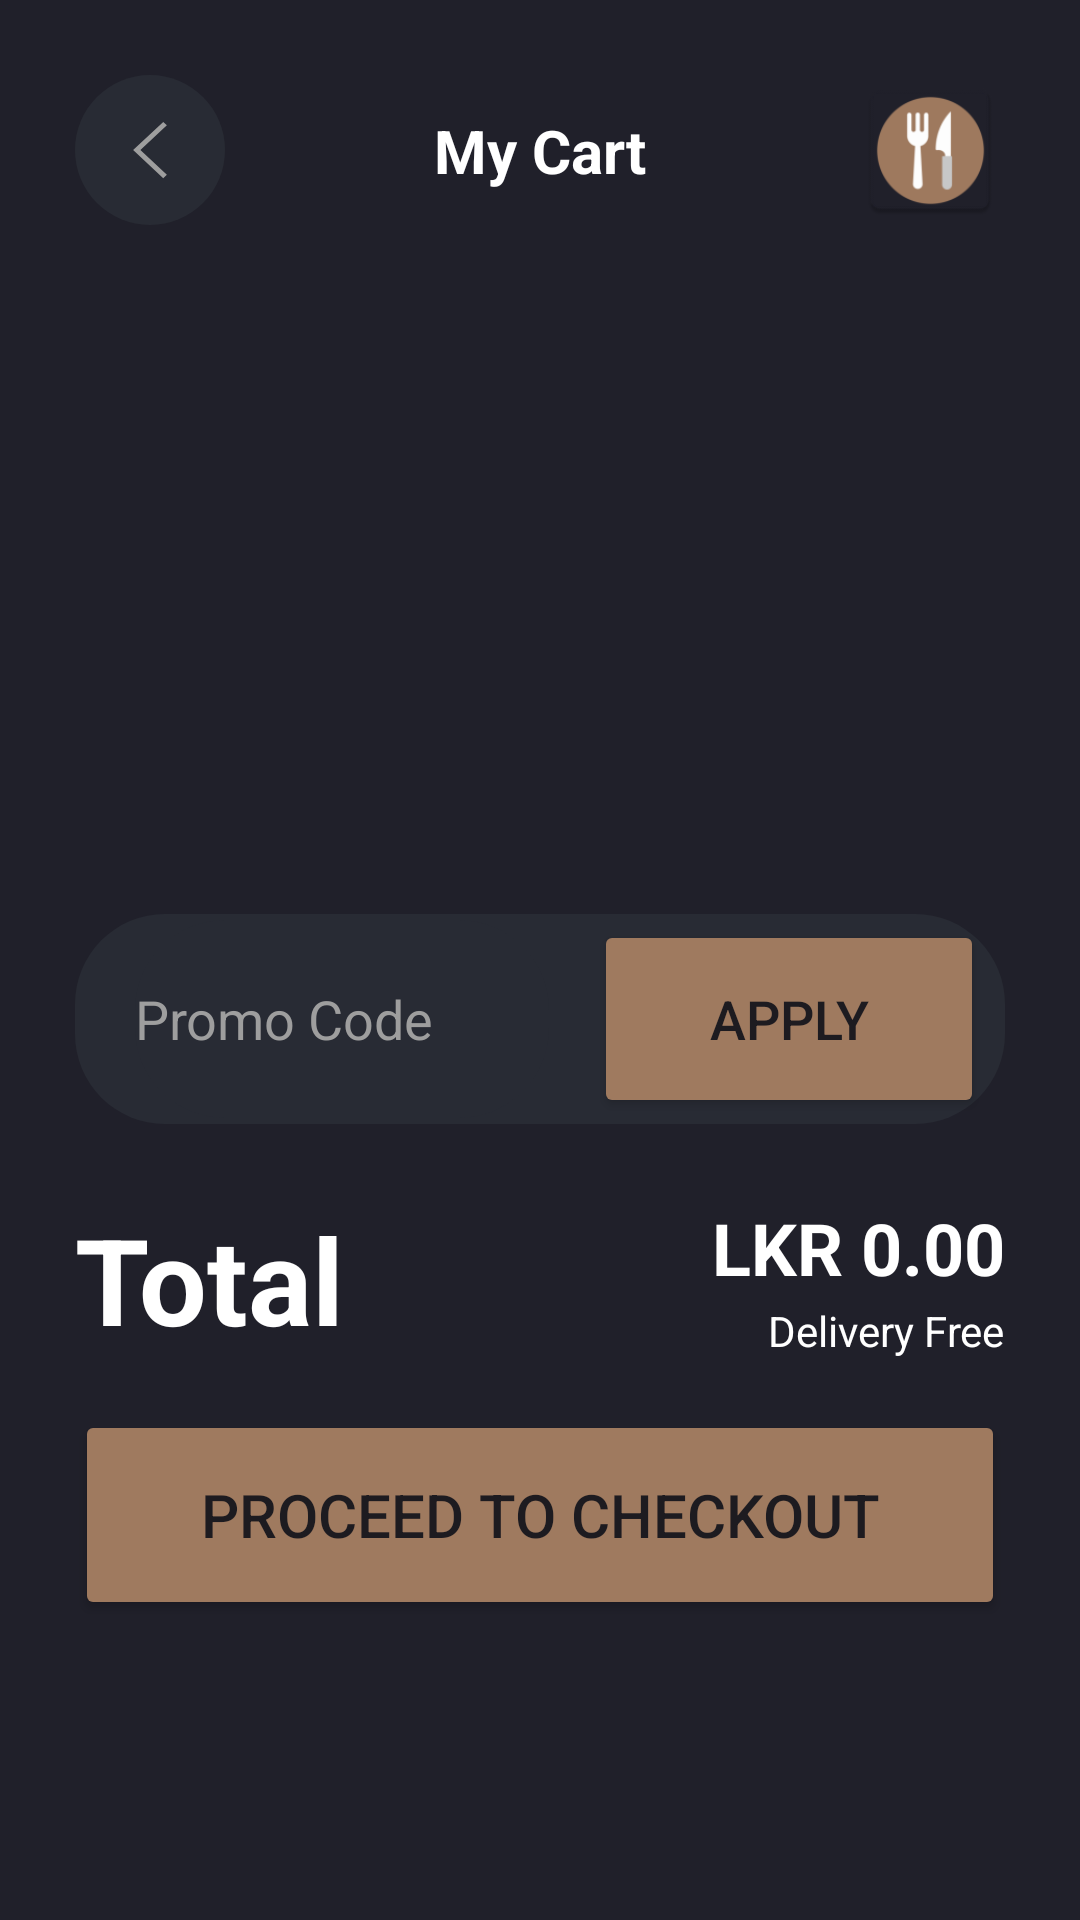

Icon click points for this 1080px×1920px phone screenshot, format point (x, y):
left arrow: point (150, 150)
